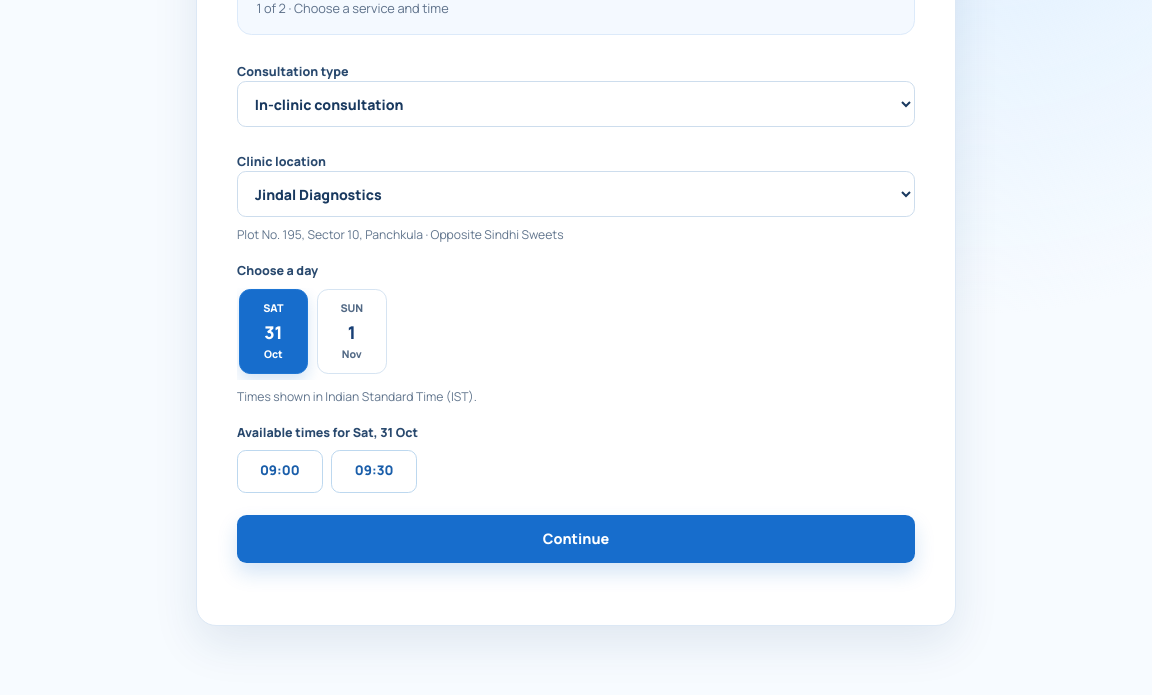
an unavailable time explains itself without mutating the slot grid
(page scrolled)
Click the button "09:00": click(280, 471) 237,450 -> 323,493
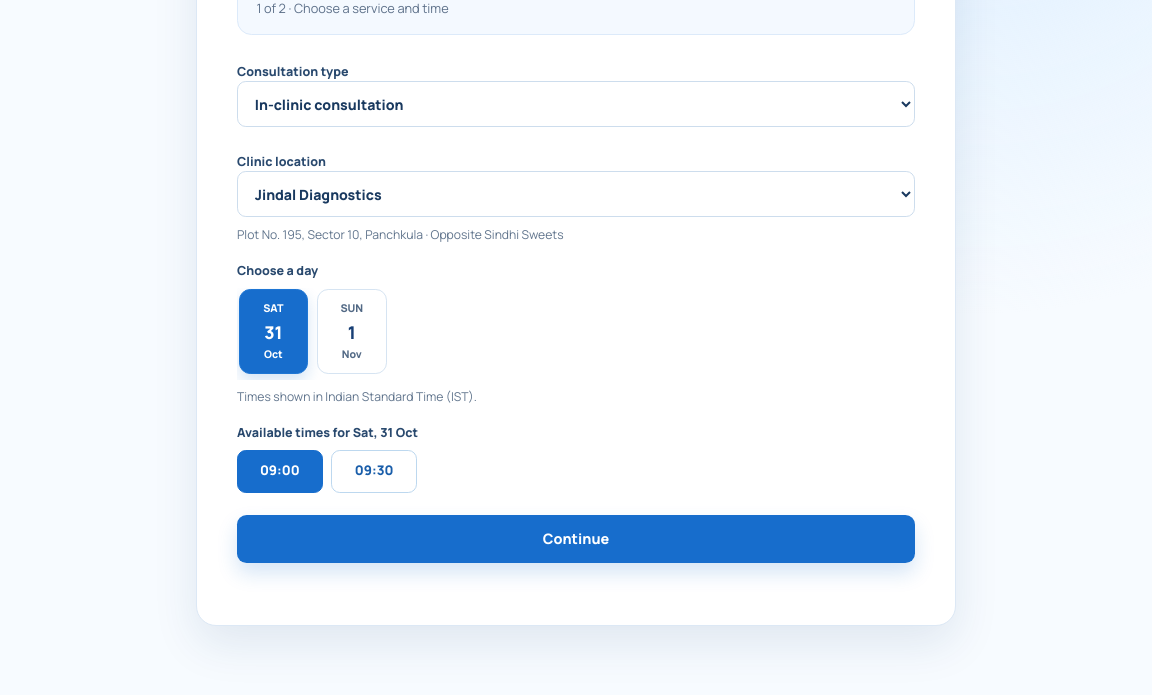
Click the button "Continue": click(576, 539) 237,515 -> 915,563
(page scrolled)
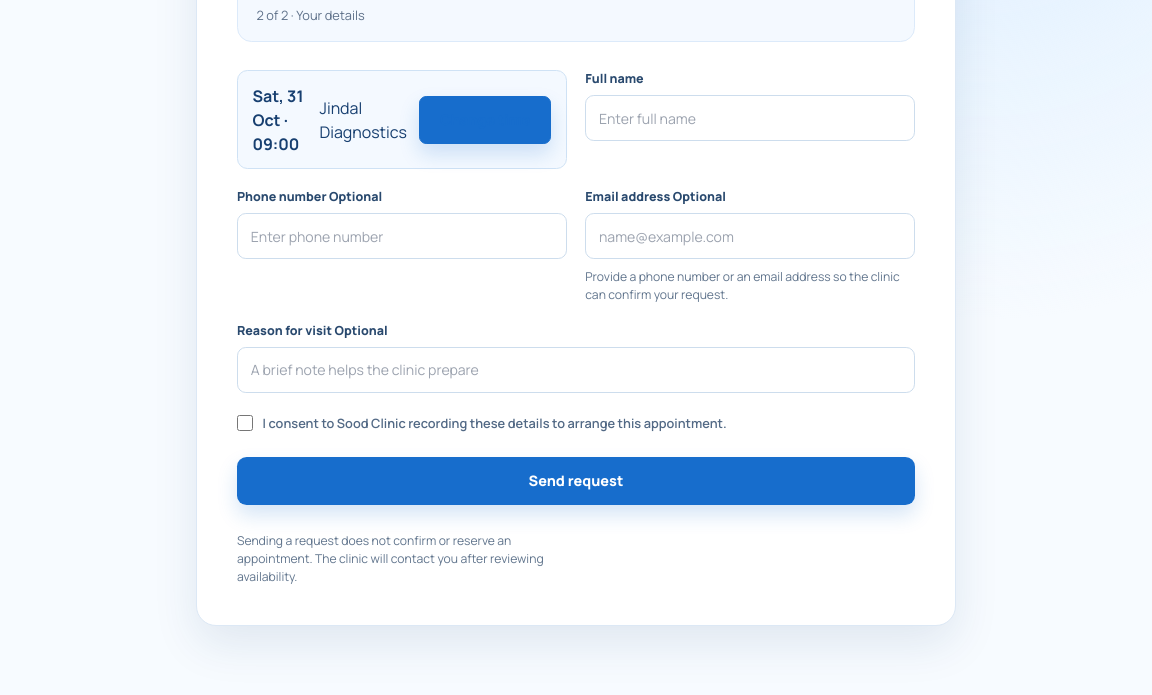
In the field labelled "Full name": (750, 118) 585,95 -> 915,141, type "Synthetic Patient"
In the field labelled "Phone number Optional": (402, 236) 237,213 -> 567,259, type "+919000000001"
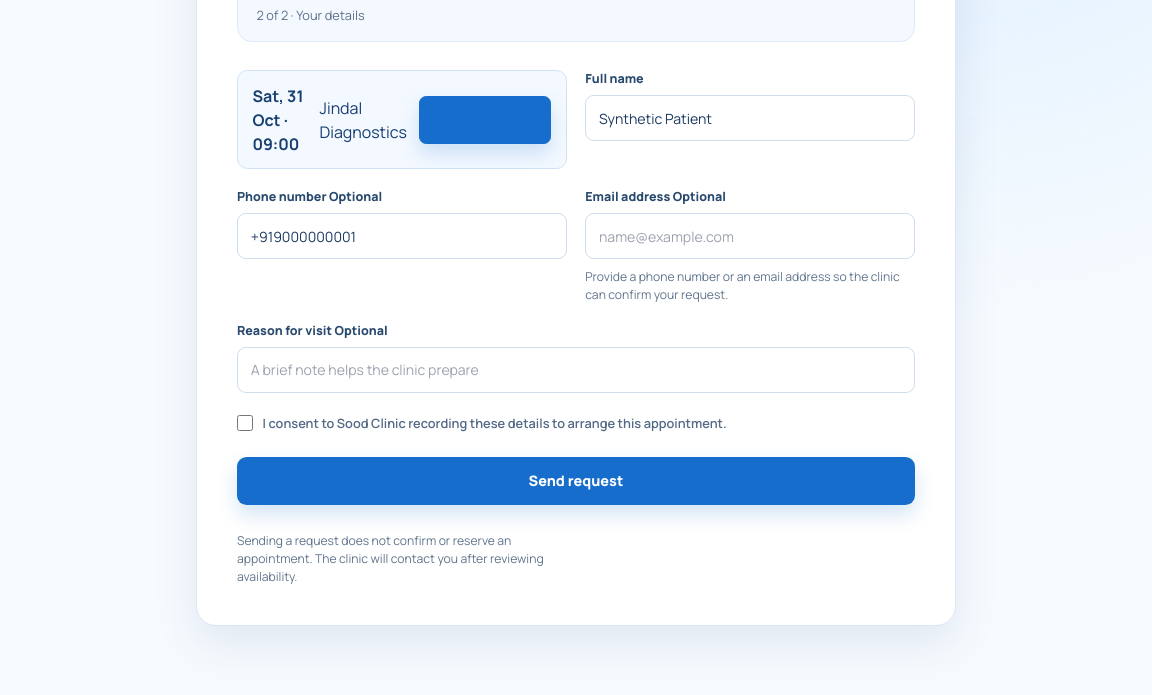
In the field labelled "Reason for visit Optional": (576, 370) 237,347 -> 915,393, type "Synthetic reason"
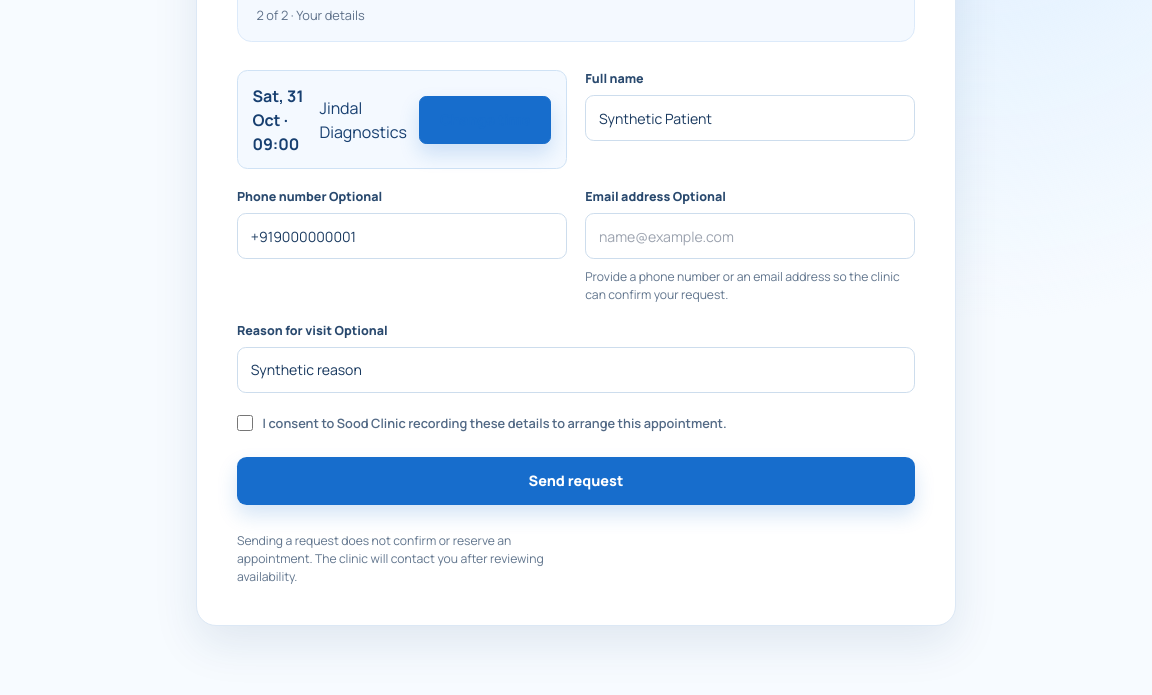
Click the checkbox: click(245, 423) 237,415 -> 253,431
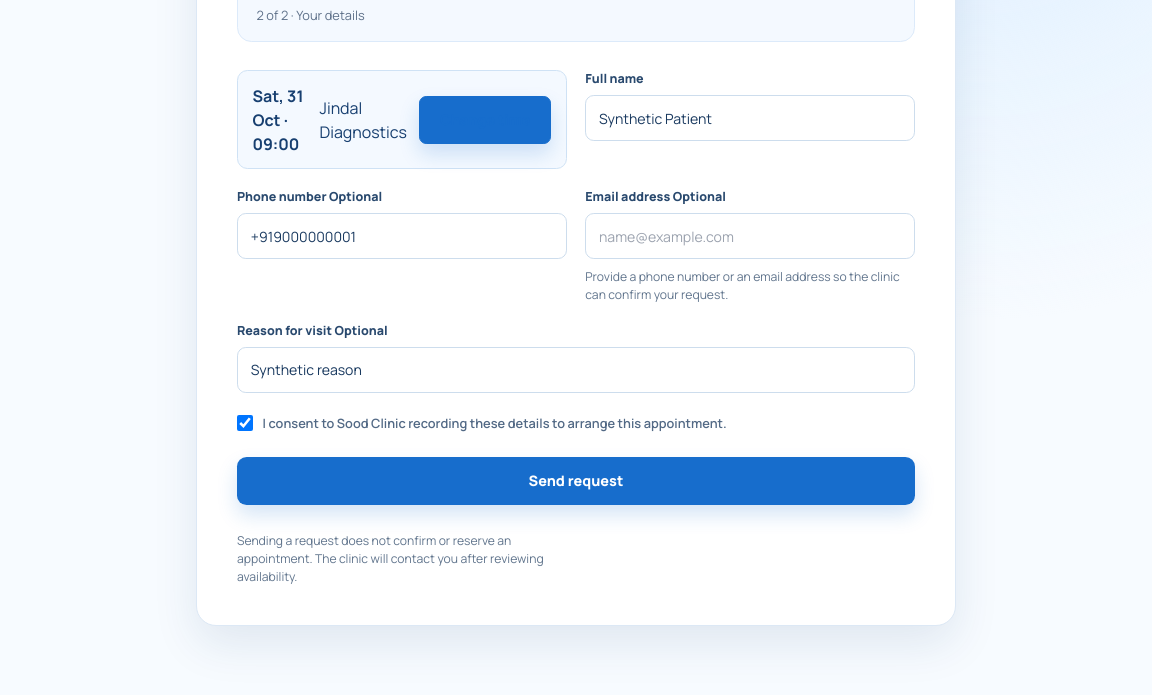
Click the button "Send request": click(576, 481) 237,457 -> 915,505
(page scrolled)
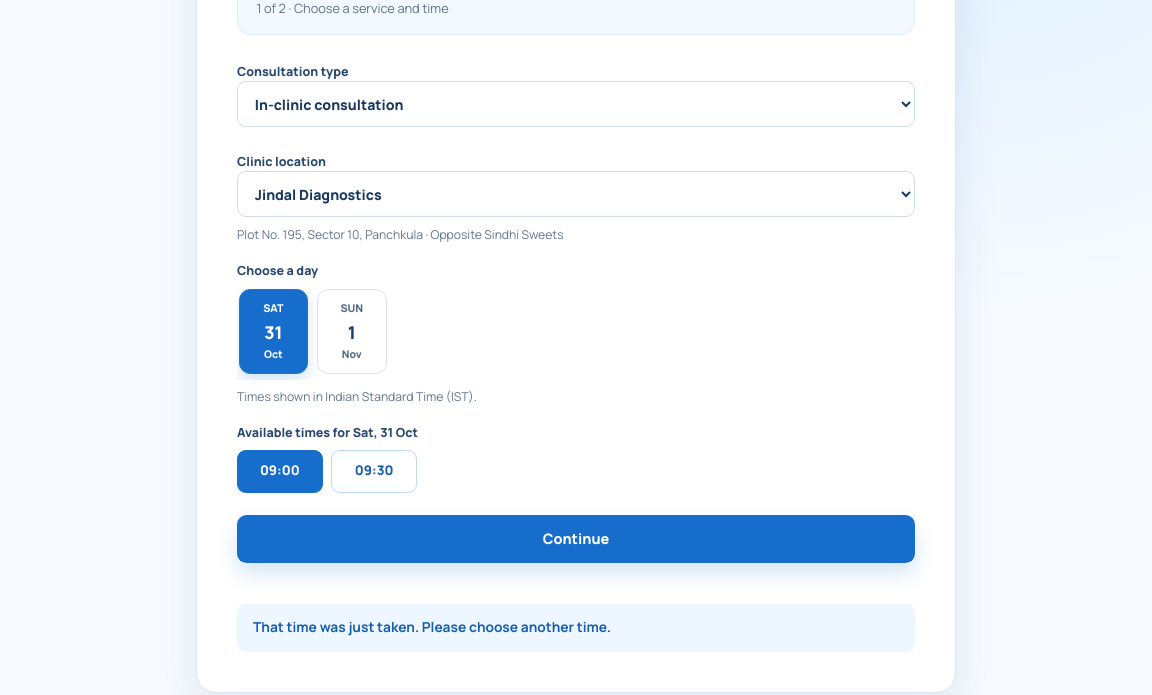
Expected: the button "09:00" is shown, 237,450 -> 323,493
Expected: the text "That time was just taken. Please choose another time." is shown, 237,604 -> 915,652
Expected: the button "09:30" is shown, 331,450 -> 417,493
